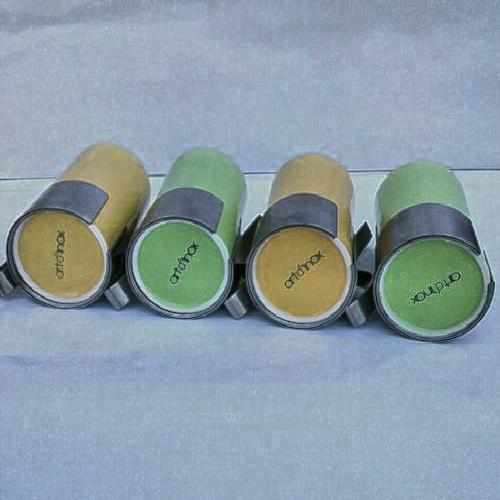mug: (120, 143, 247, 322), (17, 137, 137, 316), (372, 166, 485, 338), (263, 146, 350, 330)
